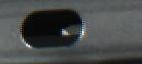holes: (20, 8, 83, 50)
